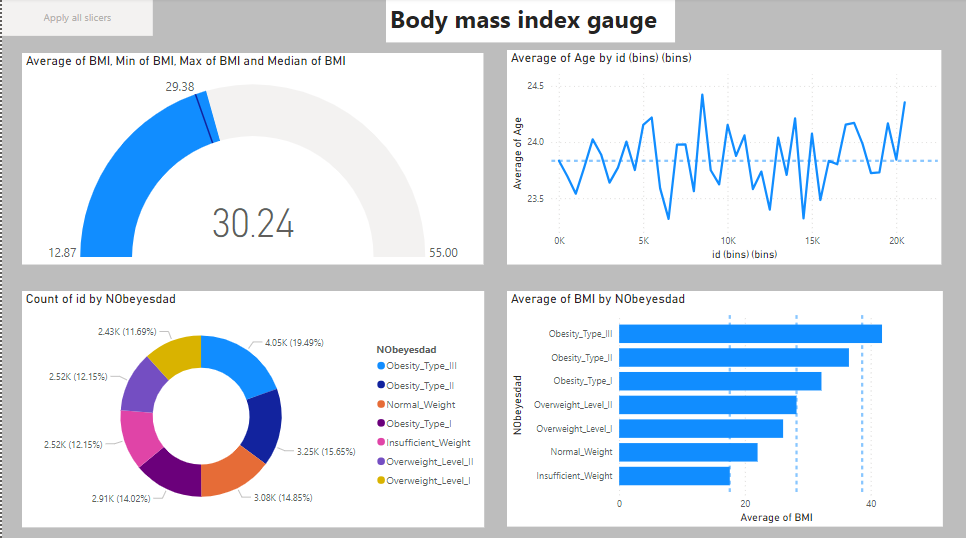

Layout of this report page (visuals, bound fields, positions):
{"tool":"powerbi","page":{"name":"Page 1","canvas":[1280,720],"ordinal":0},"visuals":[{"type":"gauge","fields":{"Y":["Avg(train.BMI)"],"MinValue":["Min(train.BMI)1"],"MaxValue":["Max(train.BMI)2"],"TargetValue":["Median(train.BMI)3"]},"box":[26.7,72.6,613.3,280.8],"z":0},{"type":"donutChart","fields":{"Category":["train.NObeyesdad"],"Y":["Count(train.id)"]},"box":[26.7,406.1,613.3,314.2],"z":1000},{"type":"textbox","box":[510.1,0,384,59.2],"z":2000},{"type":"lineChart","fields":{"Y":["Avg(train.Age)"],"Category":["train.id (bins) (bins)"]},"box":[670.6,68.8,577,284.7],"z":3000},{"type":"clusteredBarChart","fields":{"Category":["train.NObeyesdad"],"Y":["Avg(train.BMI)"]},"box":[670.6,389.7,578.9,313.3],"z":4000},{"type":"actionButton","box":[0,0,200,50],"z":4001}]}

Visuals, with their boxes in screenshot pixels (x1, y1, x2, y2), scaled from the page's 1280x720 canvas onto the 966x538 screenshot:
gauge - Avg(train.BMI) x Min(train.BMI)1: 20 54 483 264
donutChart - train.NObeyesdad x Count(train.id): 20 303 483 537
textbox: 385 0 675 44
lineChart - Avg(train.Age) x train.id (bins) (bins): 506 51 942 264
clusteredBarChart - train.NObeyesdad x Avg(train.BMI): 506 291 943 525
actionButton: 0 0 151 37
